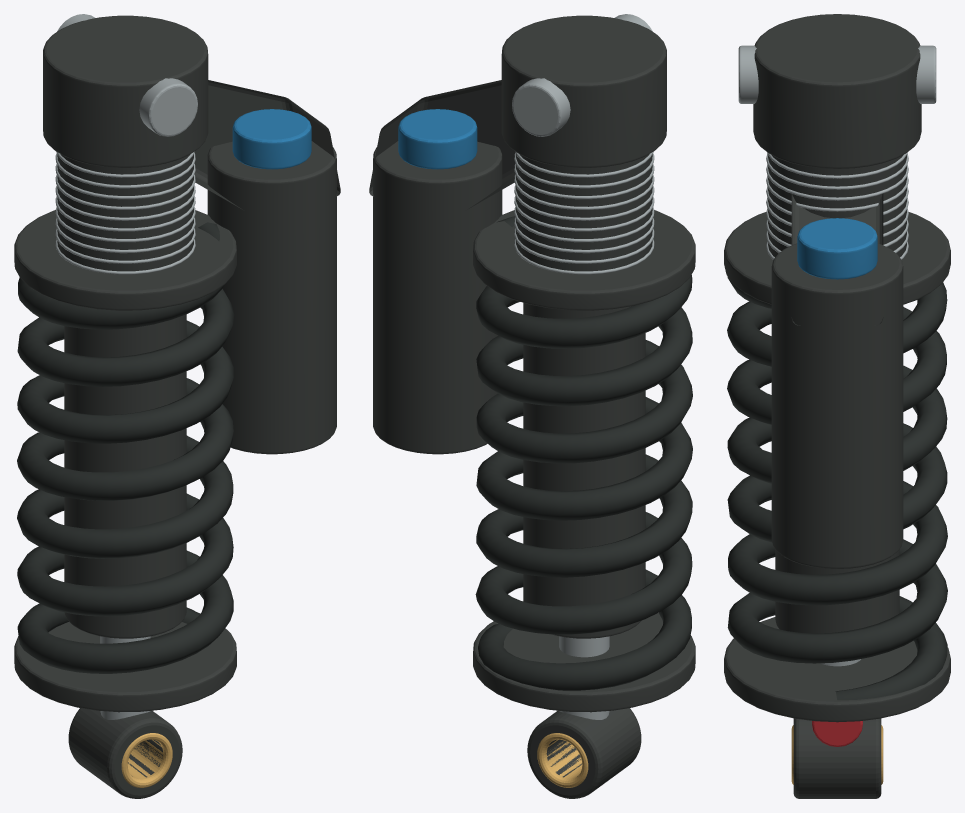
File: marzocchi-bomber-cr--0071620d.glb
3 views of the same model, side by side, from view 1: azimuth 30°, elevation 25°; view 2: azimuth 150°, elevation 25°; view 3: azimuth 270°, elevation 25° (orthographic).
Parts seen in each view (by area): view 1: marzocchi-bomber-cr--0071620d__link, marzocchi-bomber-cr--0071620d__coil, marzocchi-bomber-cr--0071620d__bolts, marzocchi-bomber-cr--0071620d__adjuster, marzocchi-bomber-cr--0071620d__stanchions; view 2: marzocchi-bomber-cr--0071620d__link, marzocchi-bomber-cr--0071620d__coil, marzocchi-bomber-cr--0071620d__bolts, marzocchi-bomber-cr--0071620d__adjuster, marzocchi-bomber-cr--0071620d__stanchions; view 3: marzocchi-bomber-cr--0071620d__link, marzocchi-bomber-cr--0071620d__coil, marzocchi-bomber-cr--0071620d__bolts, marzocchi-bomber-cr--0071620d__adjuster, marzocchi-bomber-cr--0071620d__rebound.
Part boxes in pixels (bbox=[...]): marzocchi-bomber-cr--0071620d__link: bbox=[14, 15, 340, 798]; marzocchi-bomber-cr--0071620d__coil: bbox=[17, 222, 234, 673]; marzocchi-bomber-cr--0071620d__bolts: bbox=[55, 14, 197, 719]; marzocchi-bomber-cr--0071620d__adjuster: bbox=[232, 109, 311, 169]; marzocchi-bomber-cr--0071620d__stanchions: bbox=[121, 733, 172, 787]; marzocchi-bomber-cr--0071620d__link: bbox=[369, 15, 695, 798]; marzocchi-bomber-cr--0071620d__coil: bbox=[475, 216, 692, 690]; marzocchi-bomber-cr--0071620d__bolts: bbox=[512, 14, 654, 719]; marzocchi-bomber-cr--0071620d__adjuster: bbox=[398, 109, 477, 169]; marzocchi-bomber-cr--0071620d__stanchions: bbox=[537, 733, 588, 787]; marzocchi-bomber-cr--0071620d__link: bbox=[724, 14, 950, 798]; marzocchi-bomber-cr--0071620d__coil: bbox=[727, 277, 947, 700]; marzocchi-bomber-cr--0071620d__bolts: bbox=[738, 45, 936, 666]; marzocchi-bomber-cr--0071620d__adjuster: bbox=[797, 218, 877, 279]; marzocchi-bomber-cr--0071620d__rebound: bbox=[812, 721, 862, 746].
Size of the model in its own units: 0.096 by 0.225 by 0.062.
